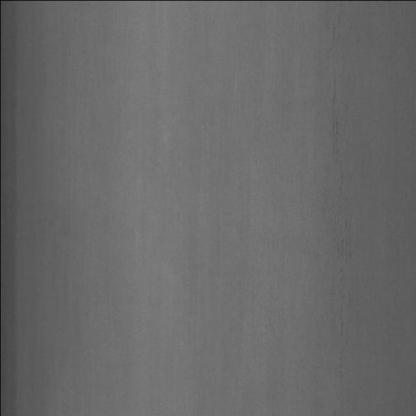silk_spot: (317, 144, 371, 348)
